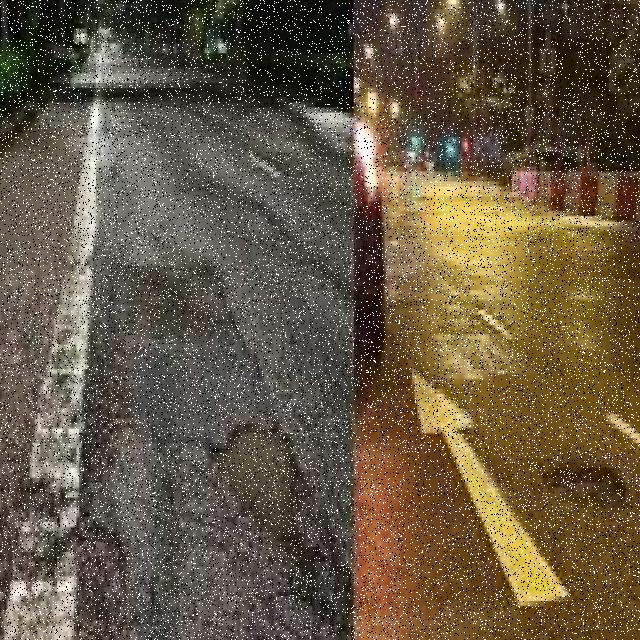pothole: (221, 423, 298, 542), (542, 458, 628, 512)
